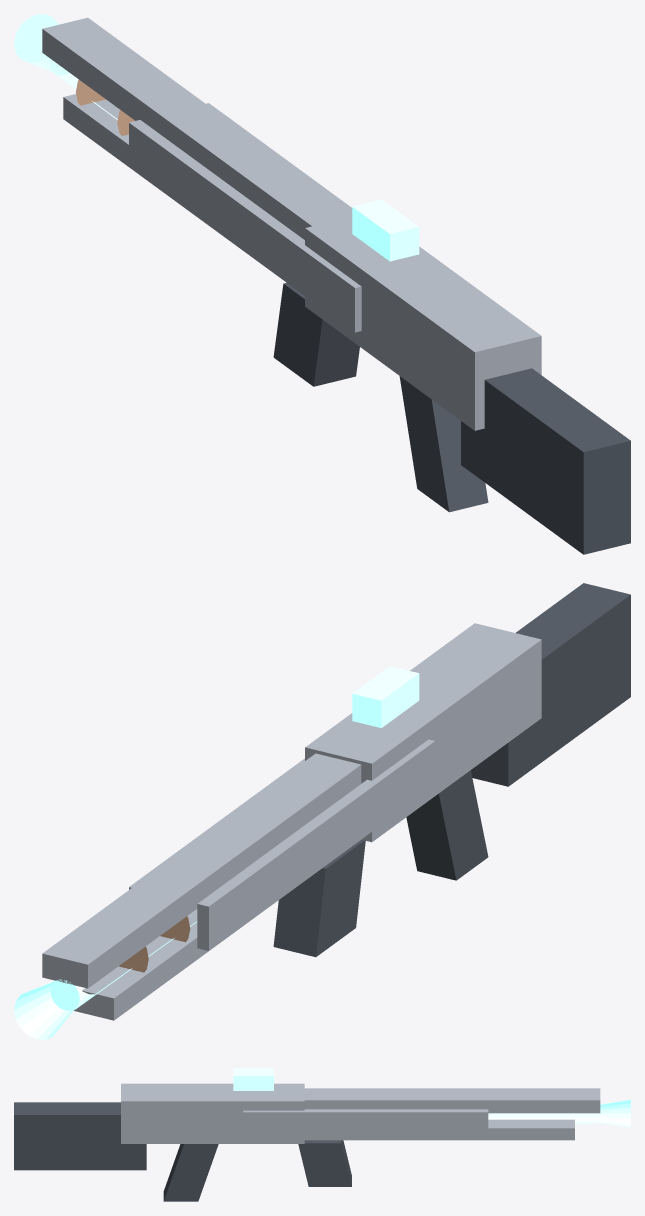
Rendered from PlasmaCarbine.glb.
3 views of the same model, one above another, from view 1: azimuth 30°, elevation 25°; view 2: azimuth 150°, elevation 25°; view 3: azimuth 270°, elevation 25° (orthographic). The views are drawn at different scales.
Parts seen in each view (by area): view 1: PlasmaCarbine; view 2: PlasmaCarbine; view 3: PlasmaCarbine.
Boxes of the visible parts, bbox=[...] form: PlasmaCarbine: bbox=[14, 14, 630, 554]; PlasmaCarbine: bbox=[14, 583, 630, 1039]; PlasmaCarbine: bbox=[14, 1068, 630, 1201].
Size of the model in its own units: 0.098 by 0.269 by 1.21.
